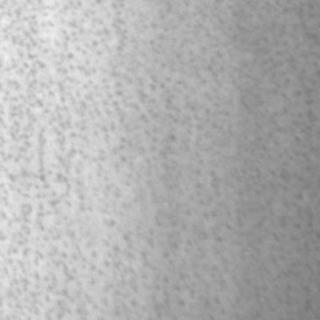pitted_surface: (5, 0, 312, 312)
